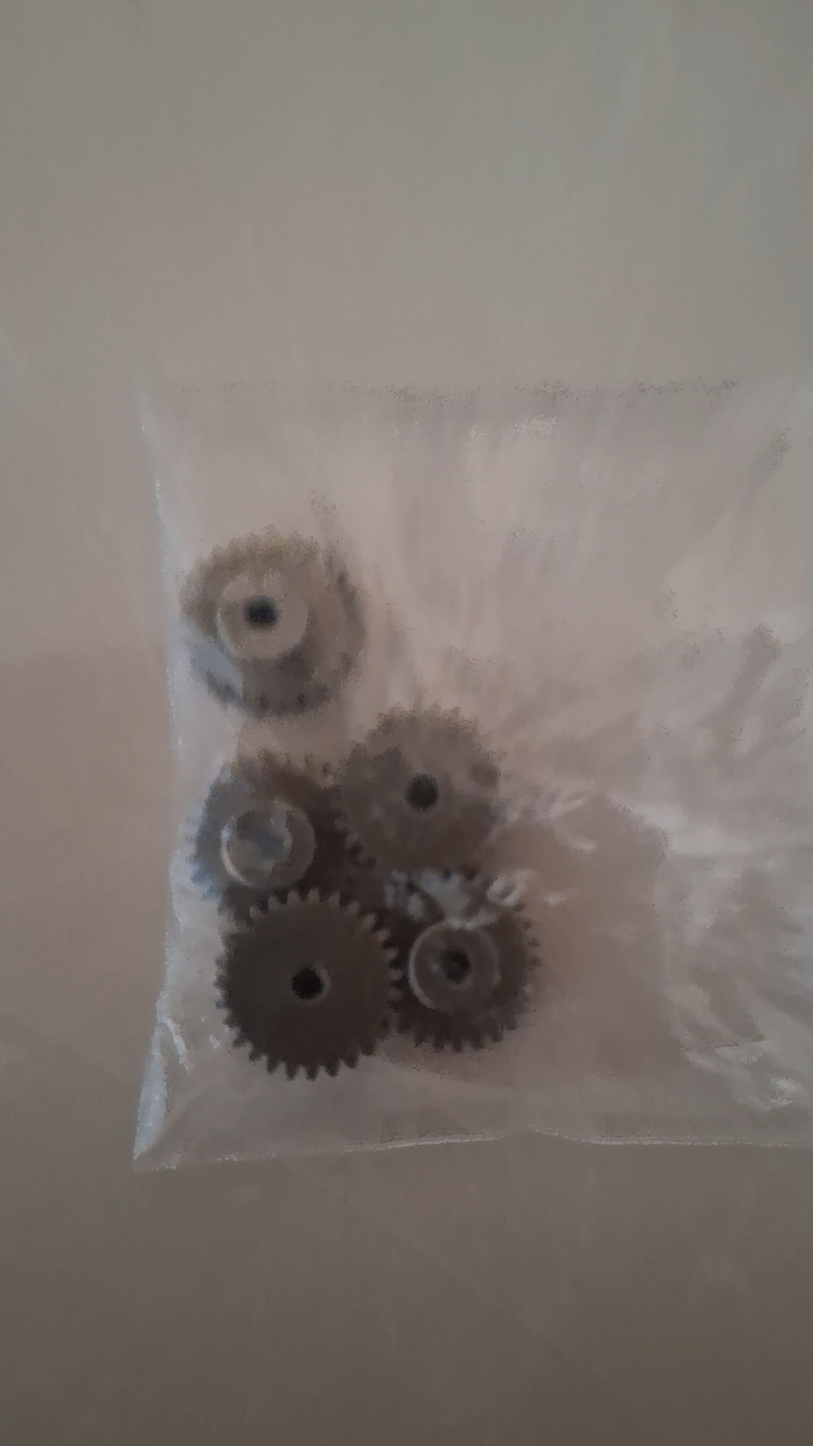spur gear: (217, 890, 401, 1079), (180, 532, 363, 716), (337, 708, 499, 874), (191, 750, 347, 917), (398, 890, 537, 1051)
